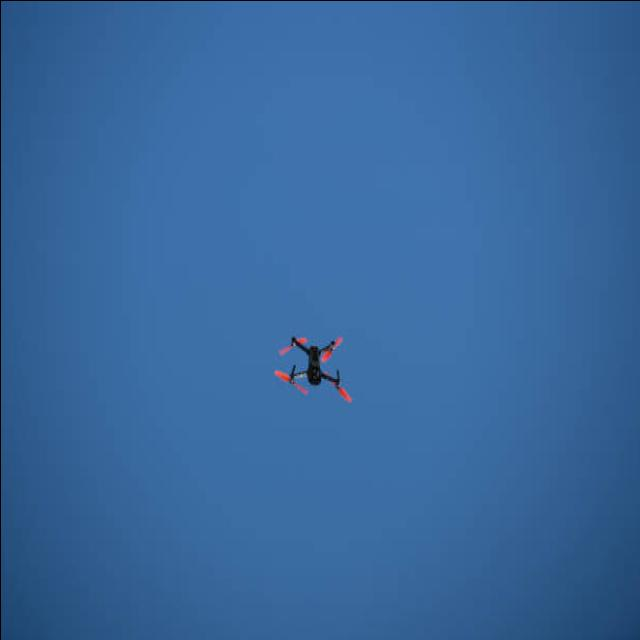drone: (274, 334, 352, 404)
